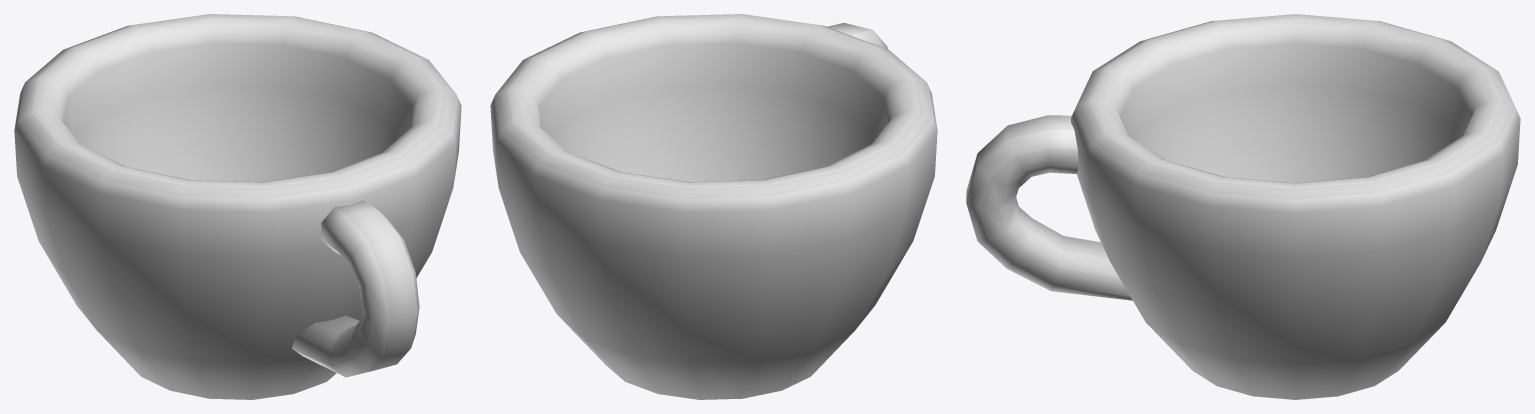
The model's file is cup_004.fbx.
The picture shows the model from 3 angles, left to right: view 1: azimuth 30°, elevation 25°; view 2: azimuth 150°, elevation 25°; view 3: azimuth 270°, elevation 25°; orthographic projection.
Parts seen in each view (by area): view 1: cup_004; view 2: cup_004; view 3: cup_004.
Boxes of the visible parts, bbox=[...] form: cup_004: bbox=[14, 14, 461, 399]; cup_004: bbox=[490, 14, 937, 399]; cup_004: bbox=[966, 14, 1520, 399].
Bounding box in the file's own units: 8.39 × 10.34 × 5.17.
